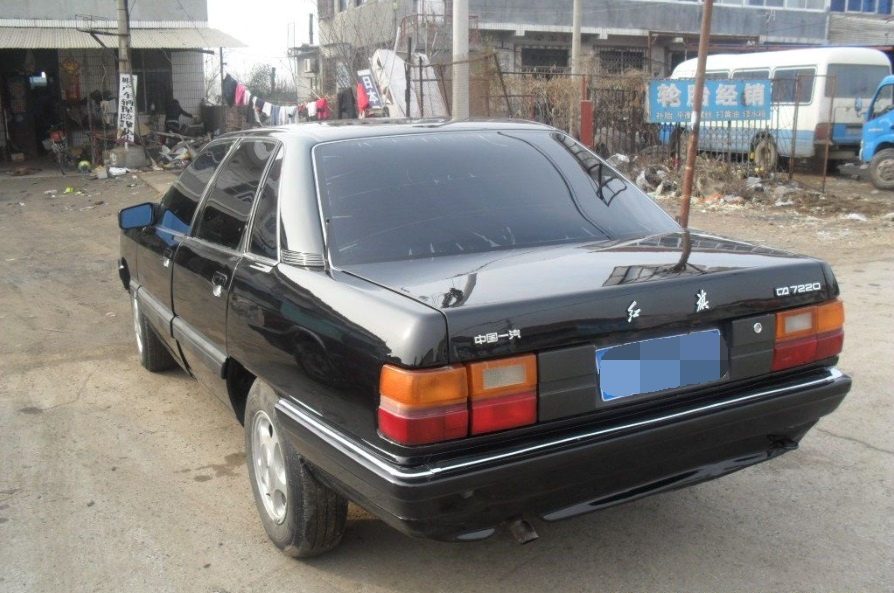family sedan: (115, 106, 860, 570)
